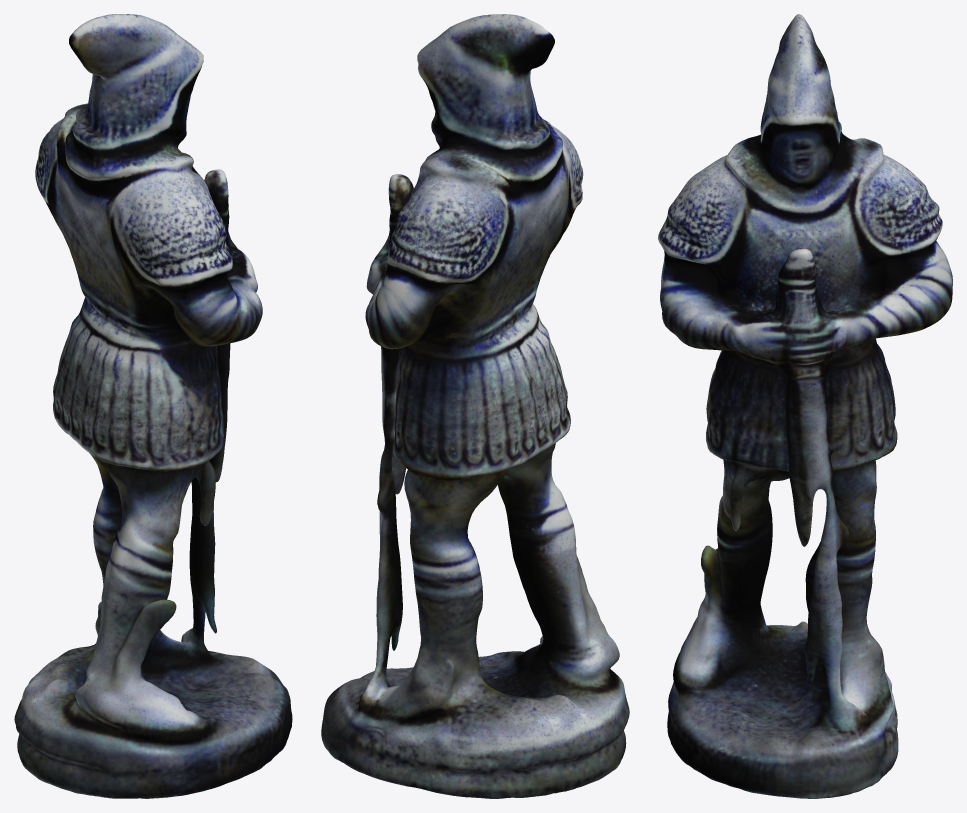
The model's file is 4d7be4399663_grey_medieval_statu.fbx.
The picture shows the model from 3 angles, left to right: view 1: azimuth 30°, elevation 25°; view 2: azimuth 150°, elevation 25°; view 3: azimuth 270°, elevation 25°; orthographic projection. The views are drawn at different scales.
Parts seen in each view (by area): view 1: high_poly; view 2: high_poly; view 3: high_poly.
Boxes of the visible parts, bbox=[...] form: high_poly: bbox=[14, 14, 292, 798]; high_poly: bbox=[321, 14, 629, 798]; high_poly: bbox=[658, 14, 952, 798].
Bounding box in the file's own units: 37.4 × 100 × 38.17.
